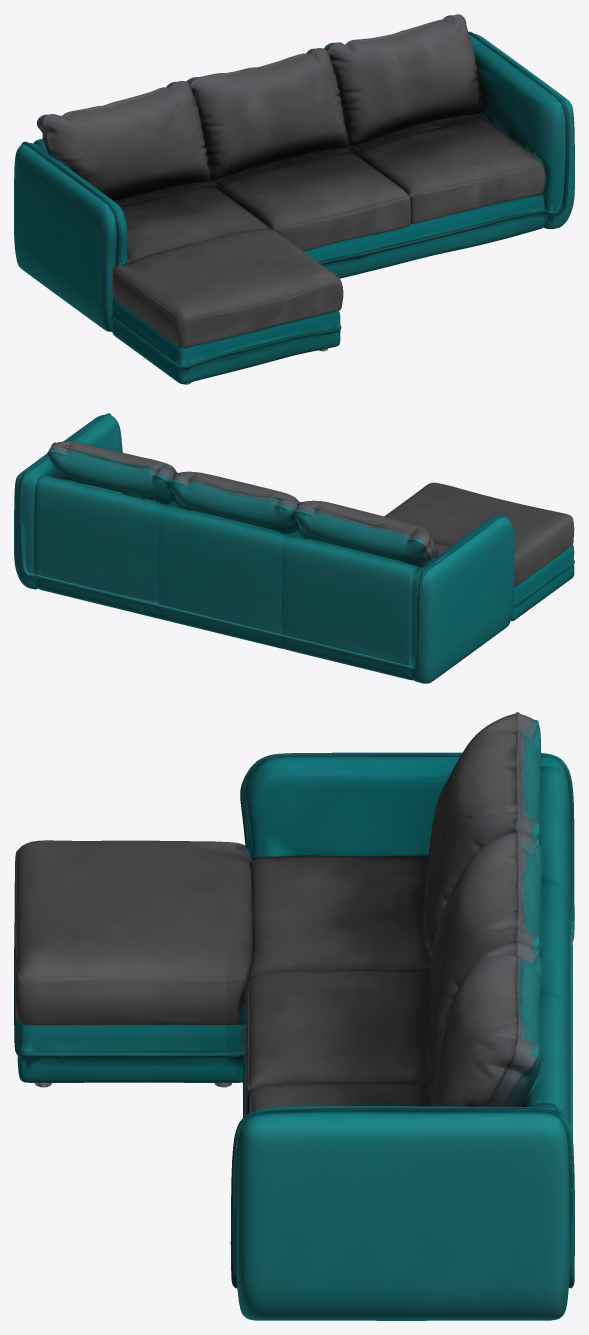
File: sofa.glb
3 views of the same model, one above another, from view 1: azimuth 30°, elevation 25°; view 2: azimuth 150°, elevation 25°; view 3: azimuth 270°, elevation 25° (orthographic). The views are drawn at different scales.
Visible parts, largest first — view 1: material; view 2: material; view 3: material.
Part boxes in pixels (x1,y1,x2,y2): material: (14,14,574,384); material: (14,413,574,683); material: (14,712,574,1320).
Size of the model in its own units: 1.01 by 0.3339 by 0.6325.
Materials: 1 (1 with a texture image).
